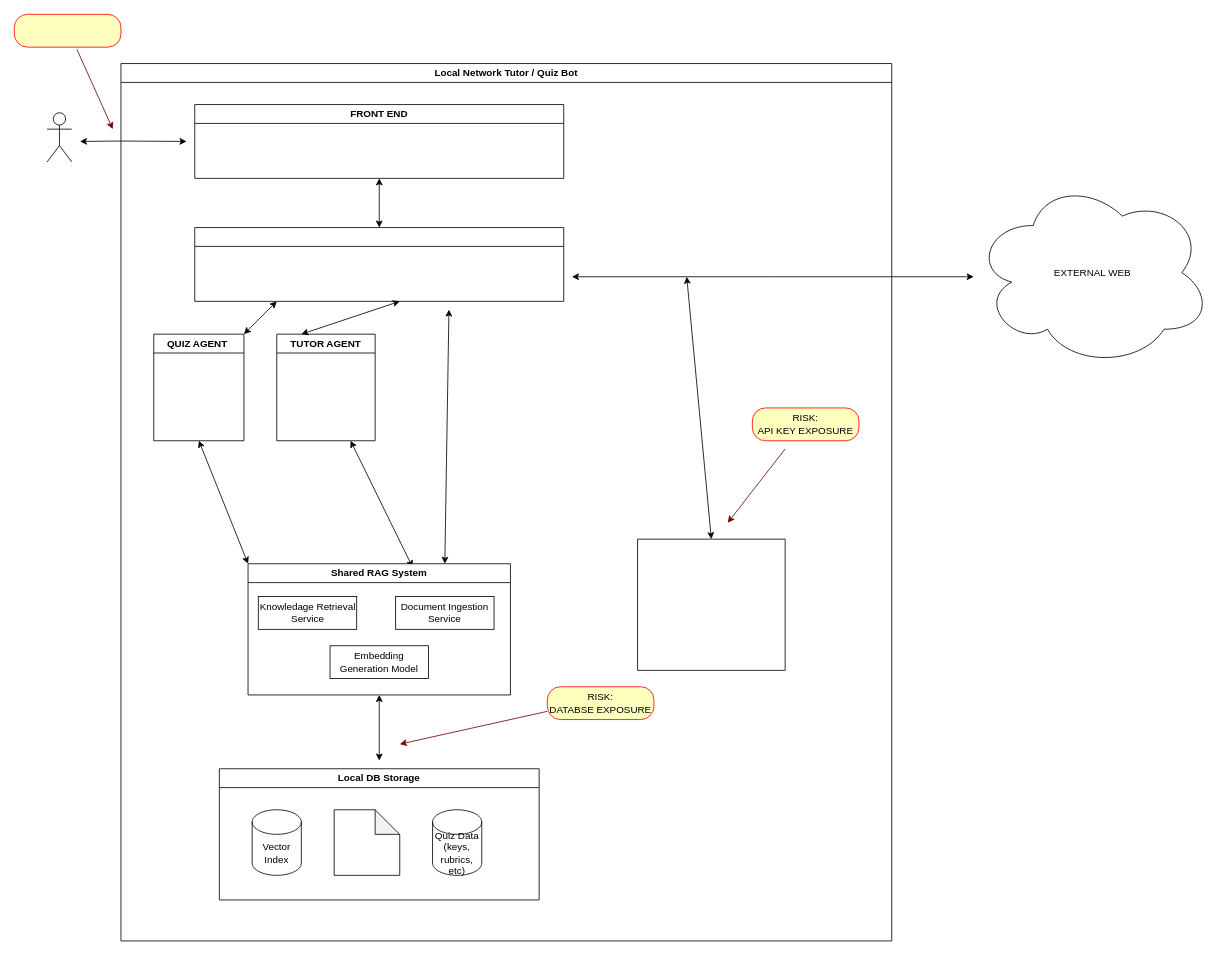
This 1226x955 diagram has some shape labels left out. The centre of each missing label's shape, as x and y in pixels:
API KEY STORAGE: point (711, 604)
BACK END: point (379, 264)
RISK: PROMPT INJECTION: point (67, 30)
Source Documentation &Metadata: point (366, 842)
User: point (59, 137)
